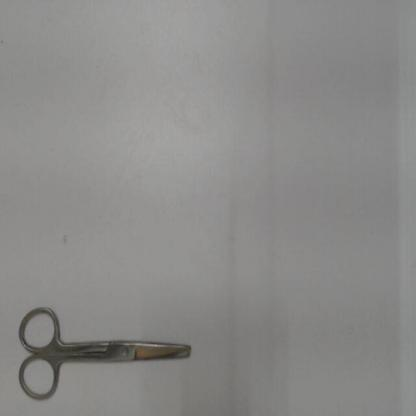Dressing Scissors: (10, 300, 202, 408)
